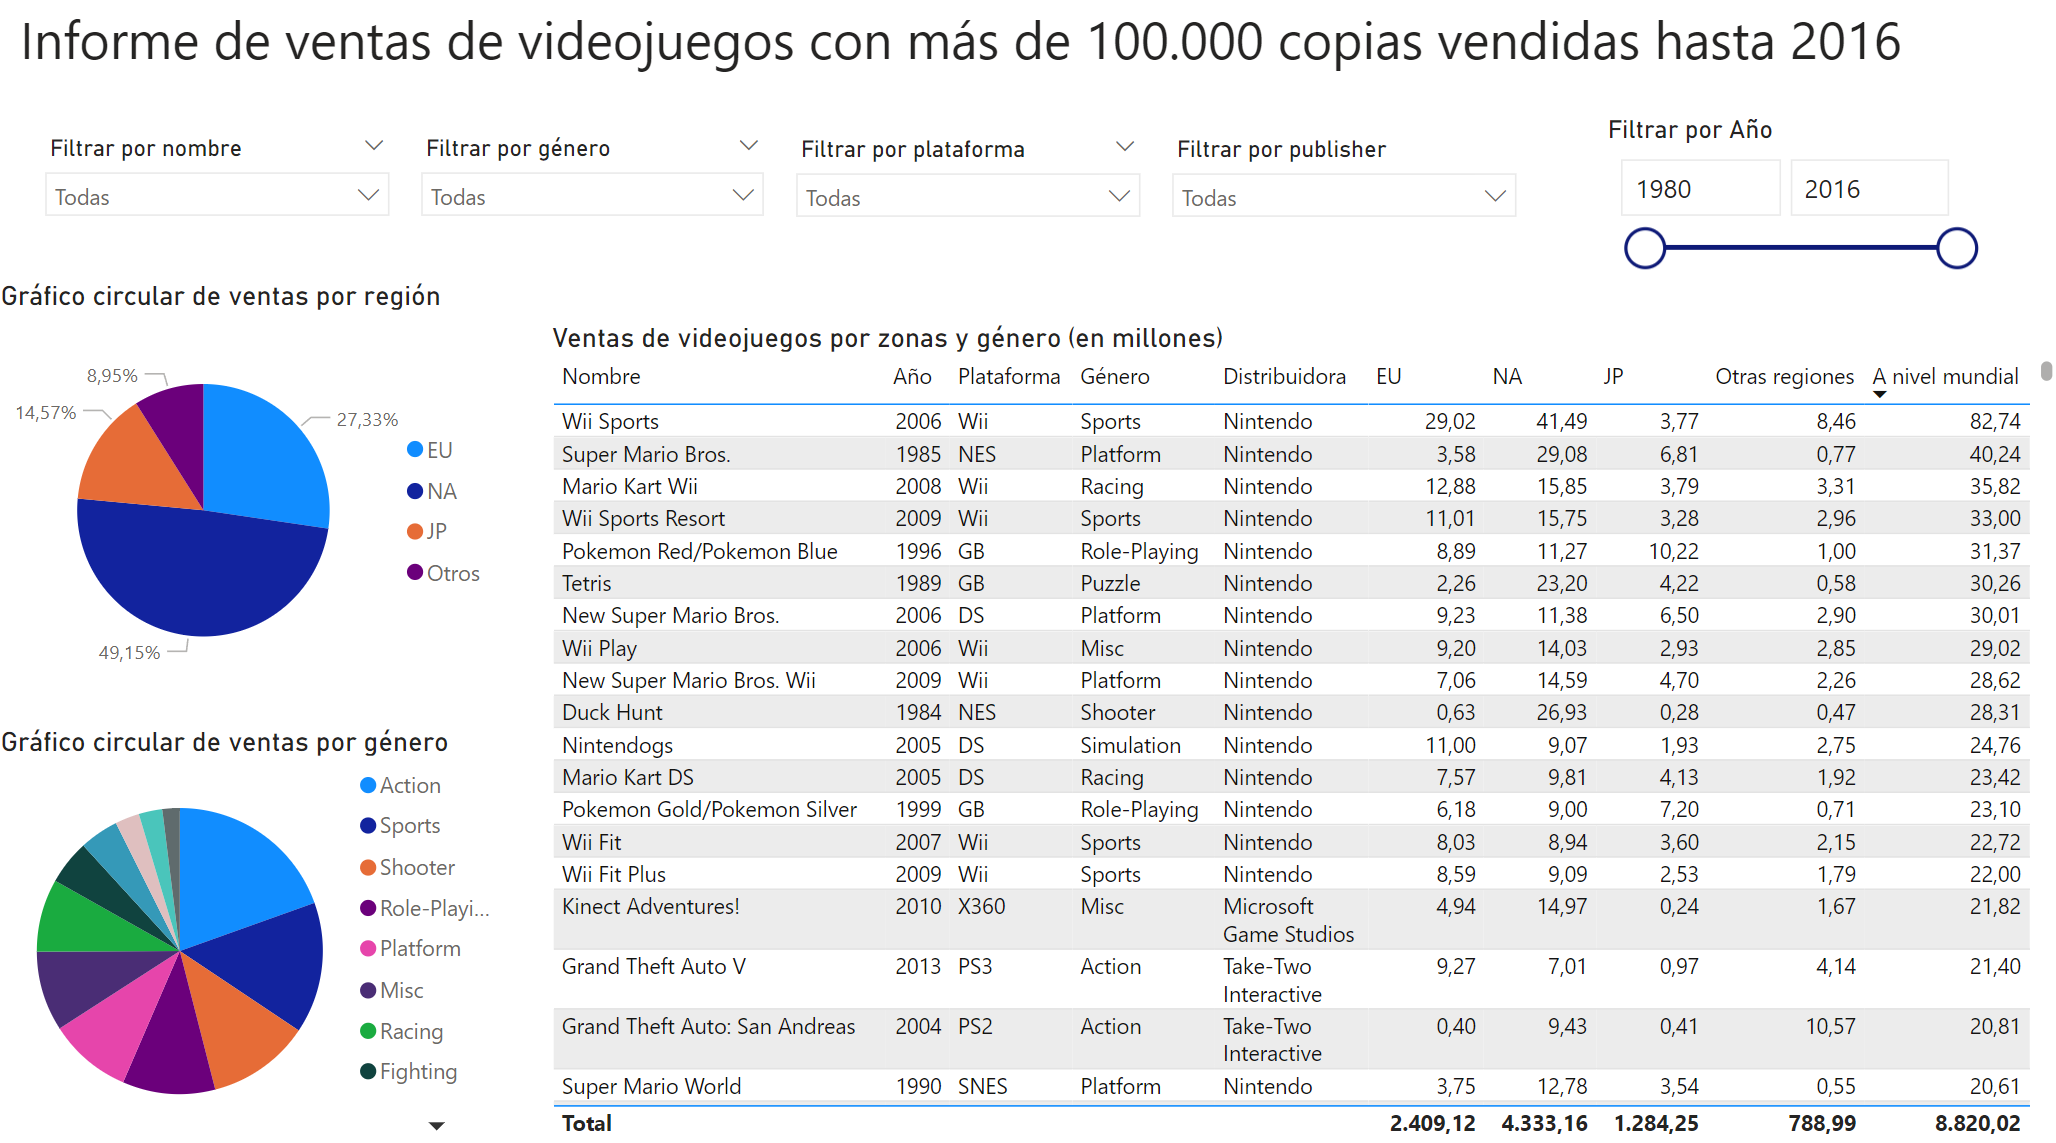

The page's visual inventory and layout, read from the dashboard file:
{"tool":"powerbi","page":{"name":"General","canvas":[1280,720],"ordinal":0},"visuals":[{"type":"tableEx","title":"Ventas de videojuegos por zonas y género (en millones)","fields":{"Values":["videogame_sales.Name","videogame_sales.Year","videogame_sales.Platform","videogame_sales.Genre","videogame_sales.Publisher","Sum(videogame_sales.EU_Sales)","Sum(videogame_sales.NA_Sales)","Sum(videogame_sales.JP_Sales)","Sum(videogame_sales.Other_Sales)","Sum(videogame_sales.Global_Sales)"]},"box":[340.5,209.5,939.5,510.4],"z":0},{"type":"textbox","box":[11.7,7.3,1180,74.4],"z":1000},{"type":"pieChart","title":"Gráfico circular de ventas por región","fields":{"Y":["Sum(videogame_sales.EU_Sales)","Sum(videogame_sales.NA_Sales)","Sum(videogame_sales.JP_Sales)","Sum(videogame_sales.Other_Sales)"]},"box":[0,183.6,315.3,267.1],"z":2000},{"type":"pieChart","title":"Gráfico circular de ventas por género","fields":{"Y":["Sum(videogame_sales.Global_Sales)"],"Category":["videogame_sales.Genre"]},"box":[0,459.3,326.1,260.6],"z":3000},{"type":"slicer","fields":{"Values":["videogame_sales.Genre"]},"box":[254.8,90,231.8,65.5],"z":4000},{"type":"slicer","title":"Filtrar por Año","fields":{"Values":["videogame_sales.Year"]},"box":[994.2,81.3,242.6,102.2],"z":5000},{"type":"slicer","fields":{"Values":["videogame_sales.Platform"]},"box":[486.8,90.3,232.5,65.5],"z":6000},{"type":"slicer","fields":{"Values":["videogame_sales.Publisher"]},"box":[719.4,90.3,232.5,65.5],"z":7000},{"type":"slicer","fields":{"Values":["videogame_sales.Name"]},"box":[22.3,90,232.5,65.5],"z":8000}]}

Visuals, with their boxes in screenshot pixels (x1, y1, x2, y2), scaled from the page's 1280x720 canvas onto the 2056x1143 screenshot:
"Ventas de videojuegos por zonas y género (en millones)" tableEx: x1=547 y1=333 x2=2055 y2=1142
textbox: x1=19 y1=12 x2=1914 y2=130
"Gráfico circular de ventas por región" pieChart: x1=0 y1=291 x2=506 y2=715
"Gráfico circular de ventas por género" pieChart: x1=0 y1=729 x2=524 y2=1142
slicer - videogame_sales.Genre: x1=409 y1=143 x2=782 y2=247
"Filtrar por Año" slicer: x1=1597 y1=129 x2=1987 y2=291
slicer - videogame_sales.Platform: x1=782 y1=143 x2=1155 y2=247
slicer - videogame_sales.Publisher: x1=1156 y1=143 x2=1529 y2=247
slicer - videogame_sales.Name: x1=36 y1=143 x2=409 y2=247
